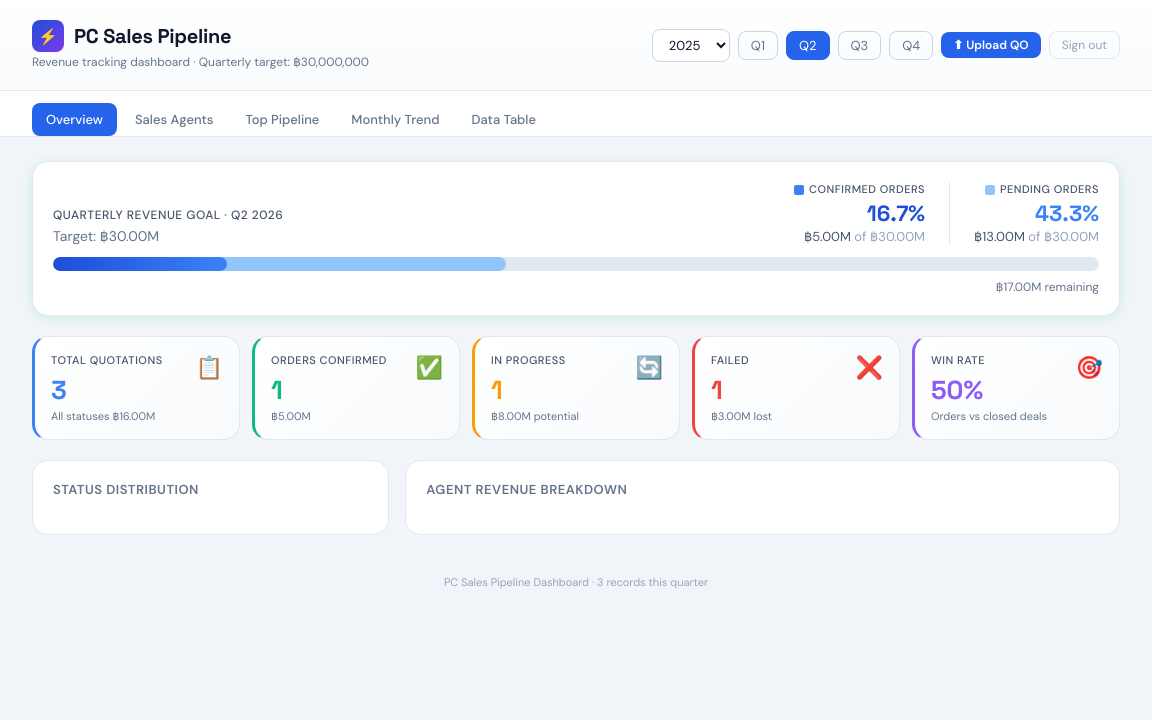
Test: Dashboard › Top Pipeline Tab › renders top 5 on-track section
The image size is (1152, 720).
Expected: the heading "PC Sales Pipeline" is shown, [74,23,231,49]
Click the button "Top Pipeline" at (282, 120), box [232,103,333,136]
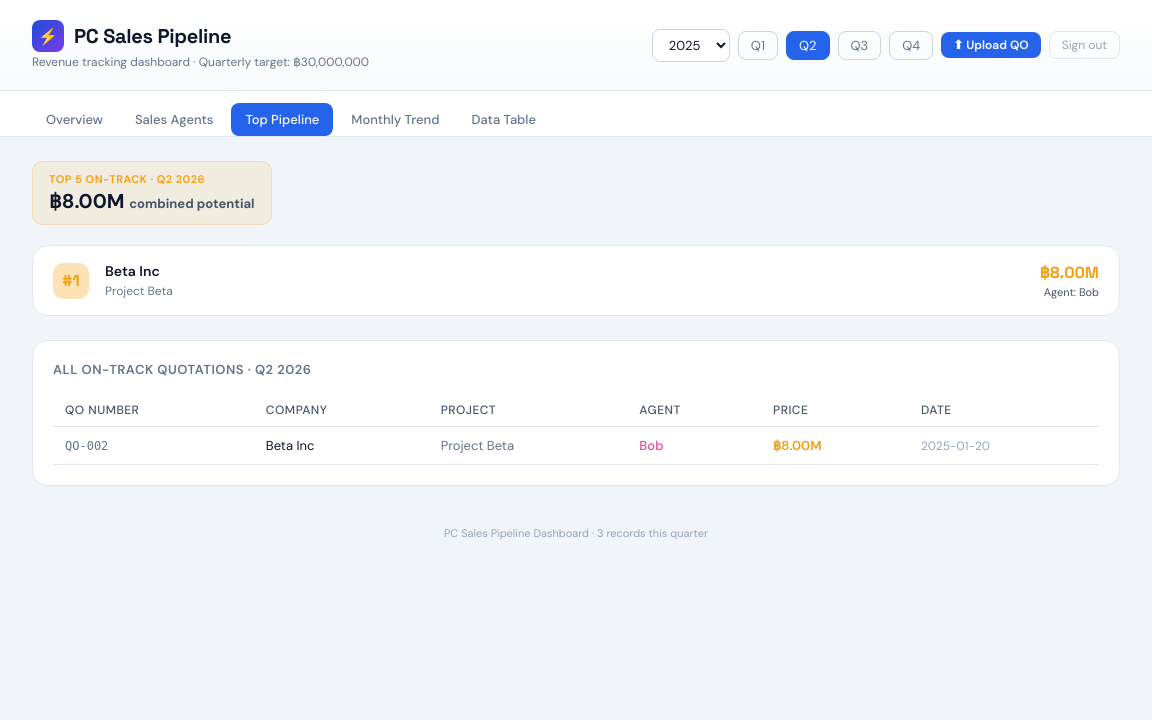
Expected: the text "Top 5 On-Track · Q2 2026" is shown, [49,172,205,186]
Expected: the text "combined potential" is shown, [129,195,254,212]
